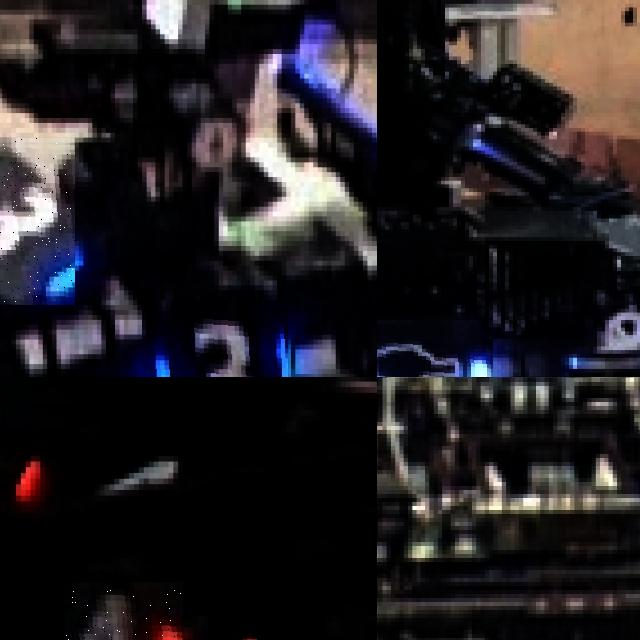B3: (0, 137, 74, 305), (146, 300, 290, 377)
Bs: (377, 323, 493, 377)
R4: (65, 581, 183, 640)
